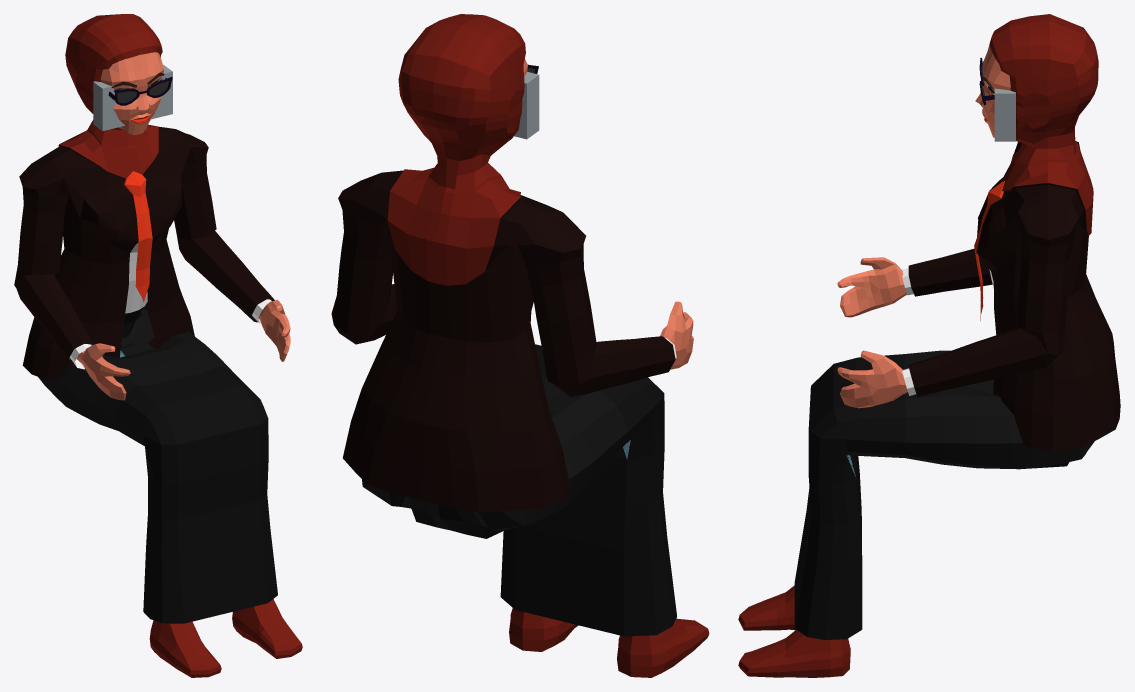
Rendered from ScientistFemale_A_Sit_Mask.fbx.
3 views of the same model, side by side, from view 1: azimuth 30°, elevation 25°; view 2: azimuth 150°, elevation 25°; view 3: azimuth 270°, elevation 25° (orthographic). The views are drawn at different scales.
Parts seen in each view (by area): view 1: ScientistFemale_A_Sit_Mask; view 2: ScientistFemale_A_Sit_Mask; view 3: ScientistFemale_A_Sit_Mask.
Boxes of the visible parts, left/top/right/bottom form: ScientistFemale_A_Sit_Mask: left=14, top=14, right=302, bottom=677; ScientistFemale_A_Sit_Mask: left=331, top=14, right=709, bottom=677; ScientistFemale_A_Sit_Mask: left=738, top=14, right=1120, bottom=677.
Bounding box in the file's own units: 0.281 × 0.7132 × 0.3951.
